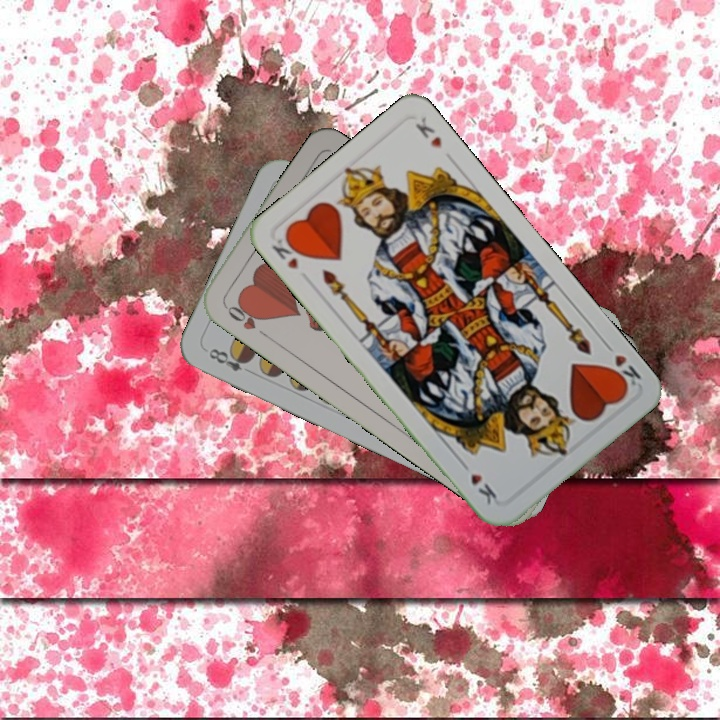E8: (204, 344, 253, 374)
HK: (600, 338, 644, 393), (267, 231, 306, 272)
HO: (219, 296, 271, 340)
